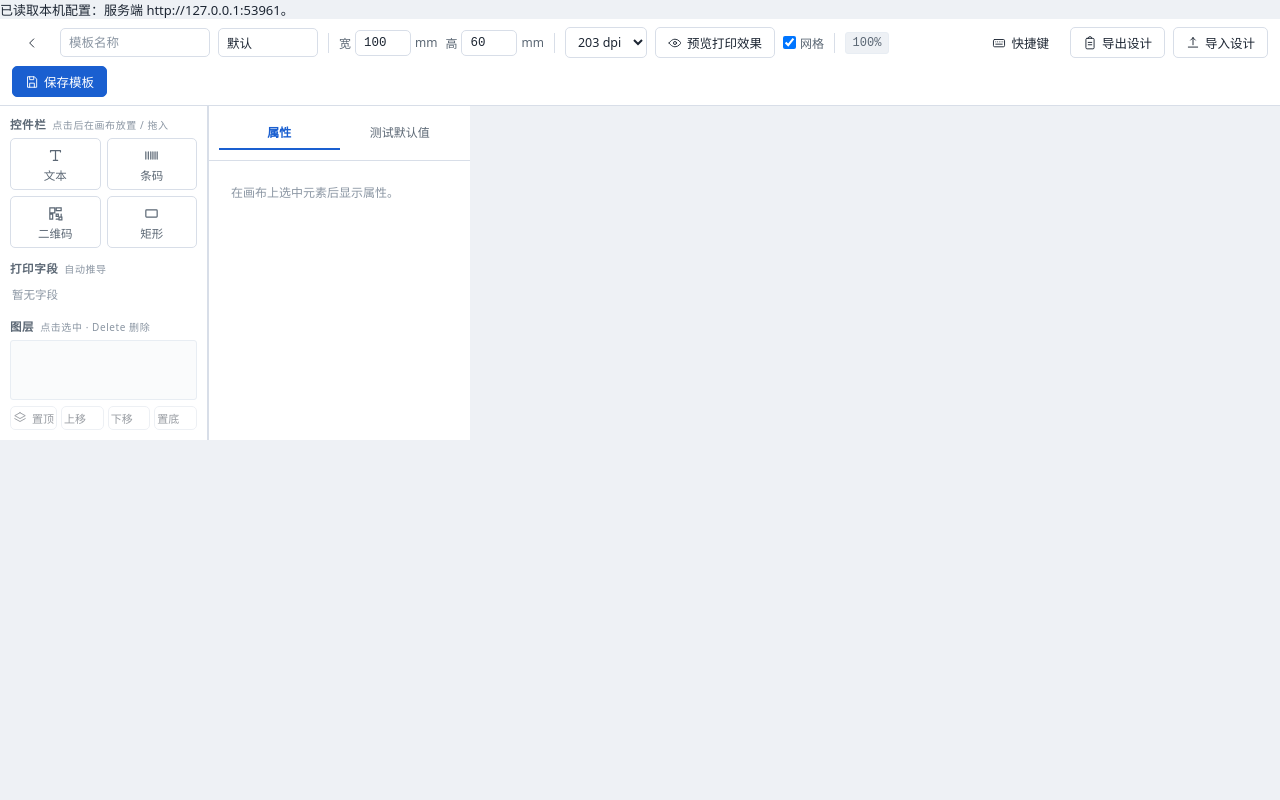
Test case: 页级保存链路（迭代 92 F-03） › 同名覆盖确认 → 取消：不保存、停留设计器
Expected: the number field showing "100" is shown, [355,30,411,56]
Type "库位标签" into the field with placeholder "模板名称" at (135, 42), box [60,28,210,57]
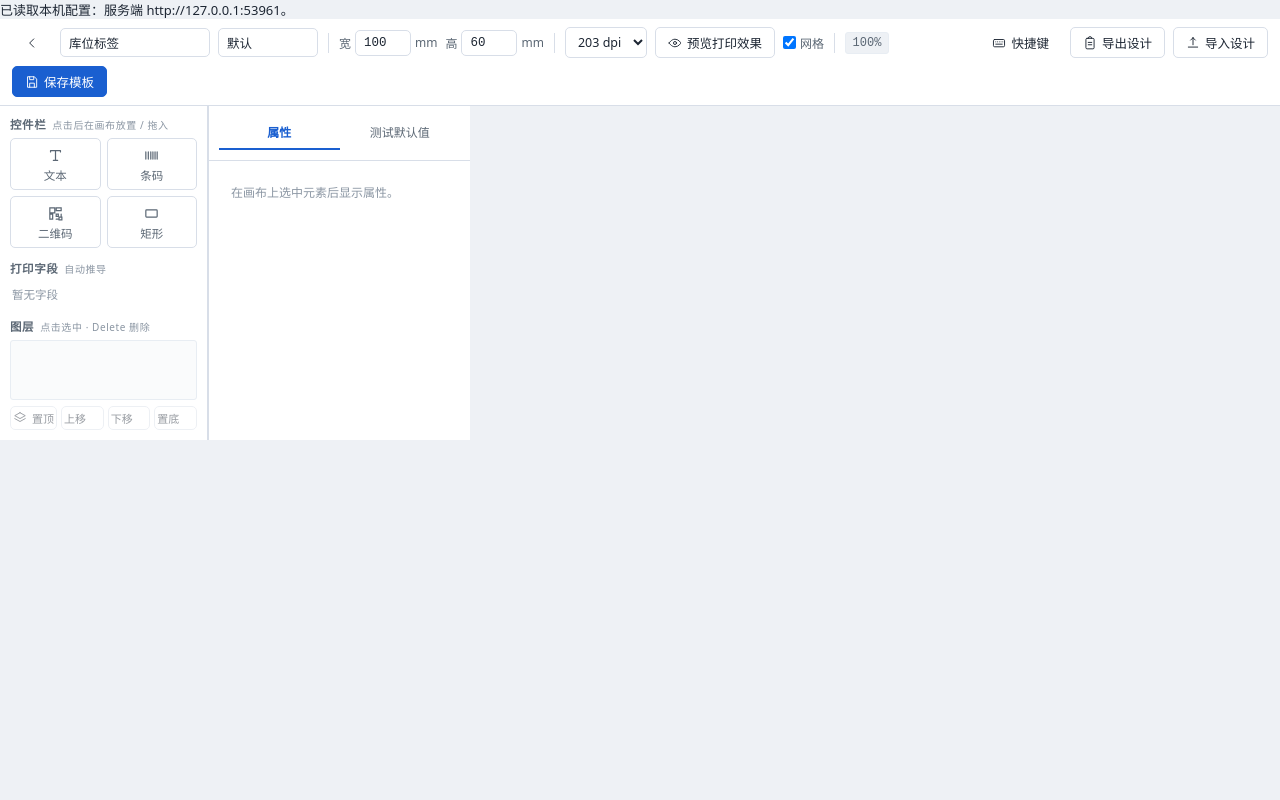
Click the button "保存模板" at (60, 82), box [12,66,107,97]
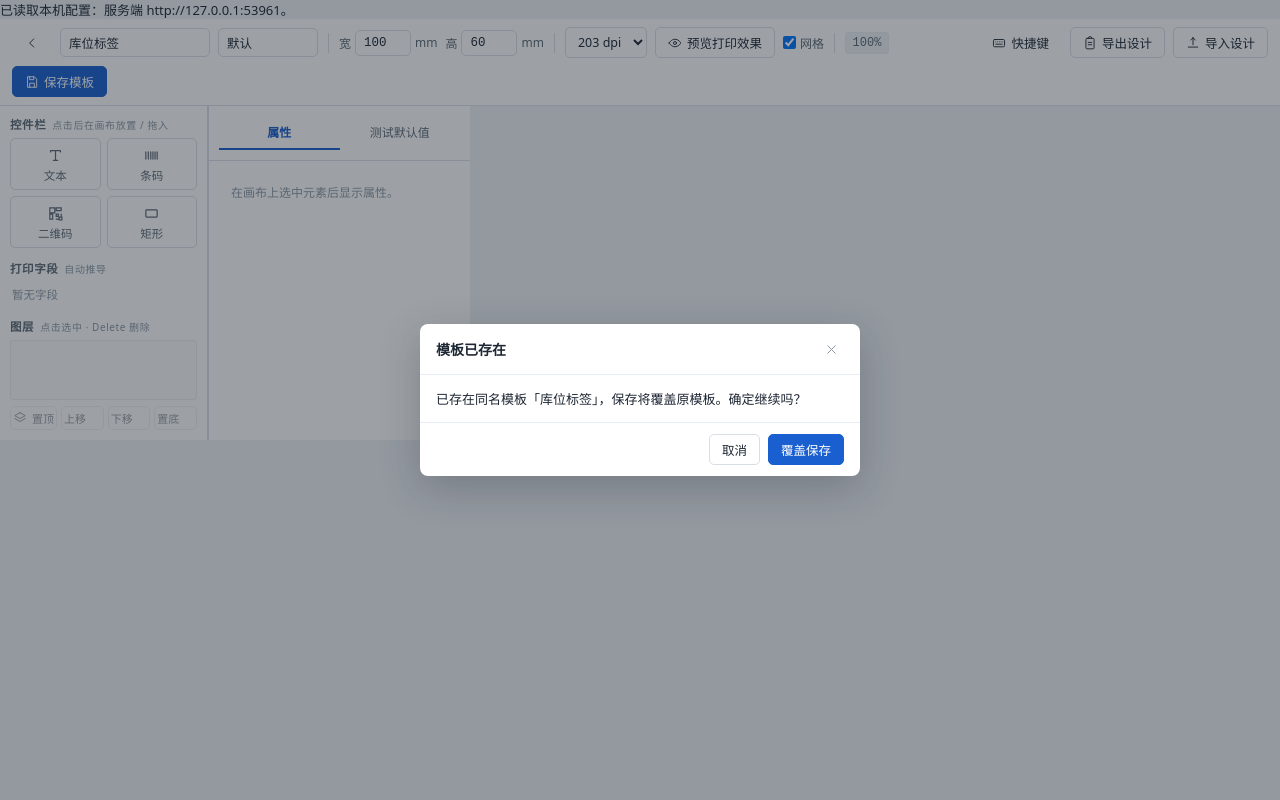
Expected: the text "模板已存在" is shown, [436,339,506,359]
Click the button "取消" at (734, 450), box [709,434,760,465]
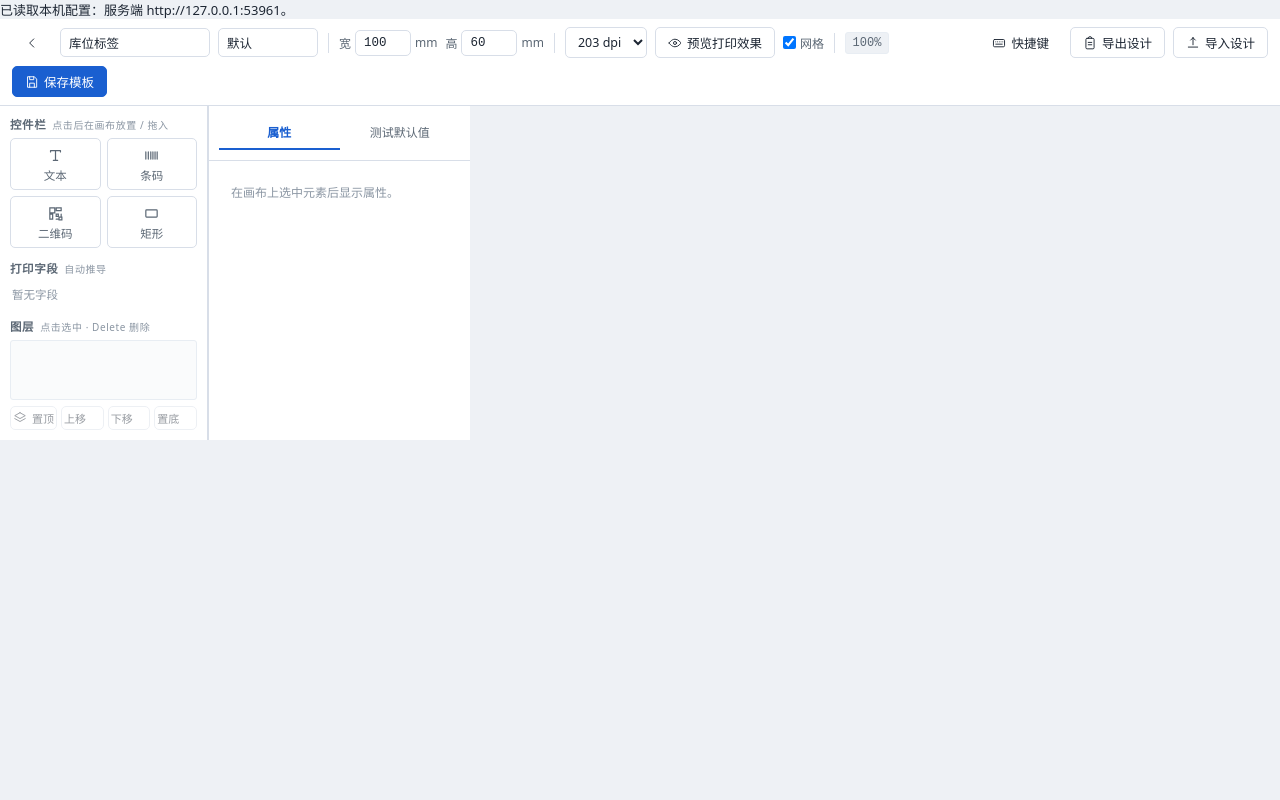
Expected: the text "模板已存在" is gone
